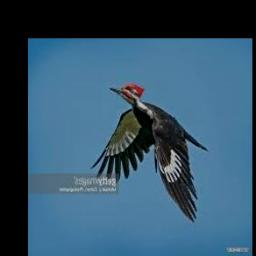Woodpecker: (90, 83, 209, 223)
